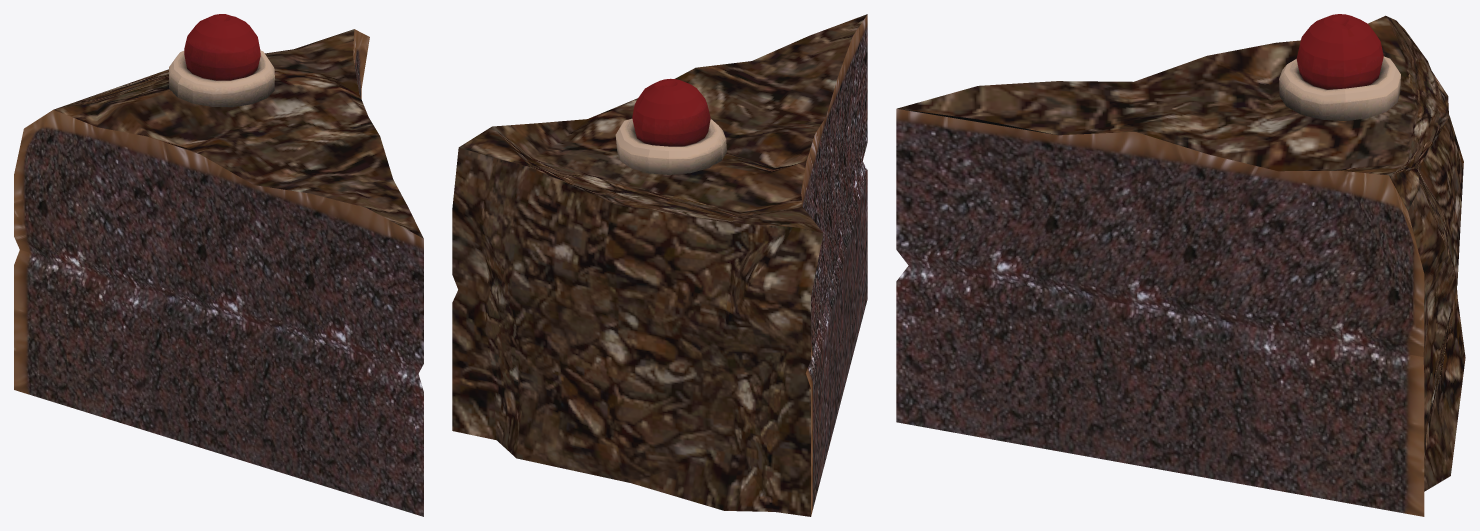
Rendered from slice.glb.
3 renders of one model, left to right at view 1: azimuth 30°, elevation 25°; view 2: azimuth 150°, elevation 25°; view 3: azimuth 270°, elevation 25°, orthographic. The views are drawn at different scales.
Parts seen in each view (by area): view 1: Material3, Material2; view 2: Material2, Material3; view 3: Material3, Material2.
Boxes of the visible parts, x1,y1,x2,y2 form: Material3: (14, 29, 423, 516); Material2: (53, 14, 423, 238); Material2: (452, 14, 867, 516); Material3: (801, 14, 867, 516); Material3: (896, 108, 1424, 516); Material2: (897, 14, 1465, 491).
Bounding box in the file's own units: 12.86 × 12.43 × 16.
Materials: 3 (3 with a texture image).
